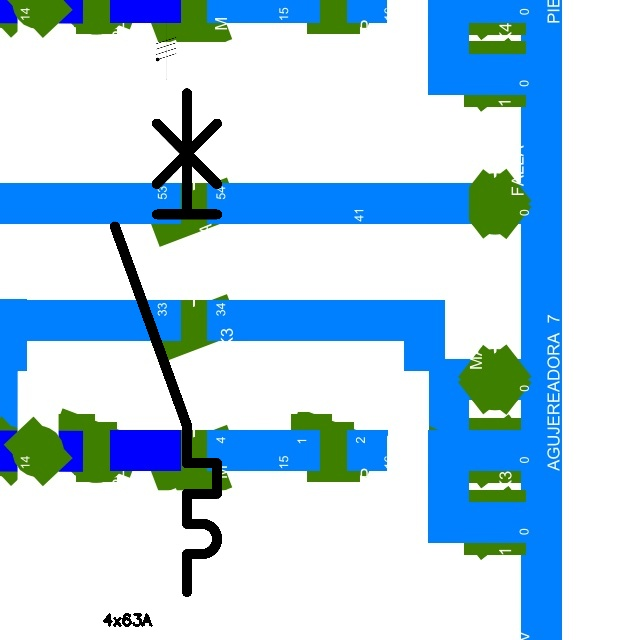interruptor_termomagnetico: (102, 80, 230, 605)
